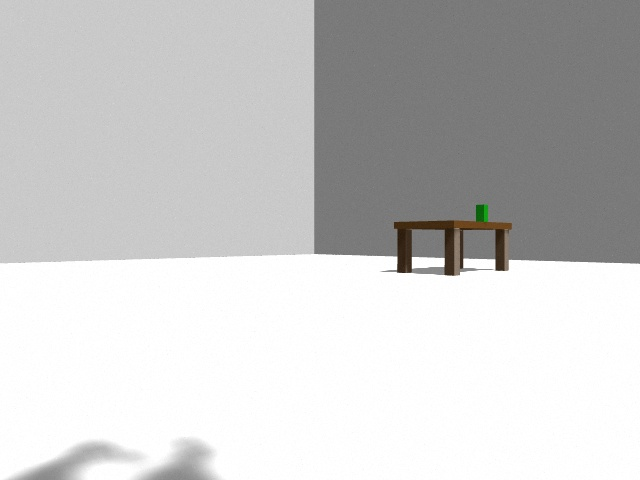green_cube: (476, 205, 488, 222)
